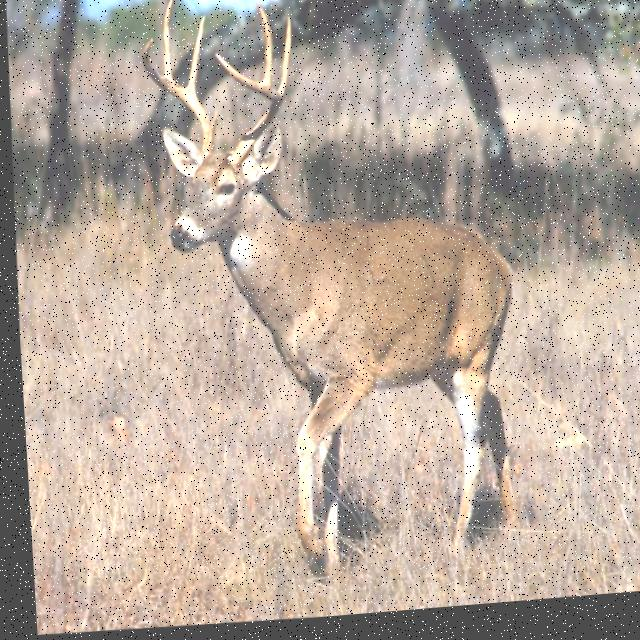L-F: (213, 56, 280, 176)
L-G1: (276, 20, 290, 106)
L-G2: (256, 4, 271, 91)
R-F: (140, 40, 212, 165)
R-G1: (208, 113, 216, 138)
R-G2: (185, 18, 205, 95)
R-G3: (162, 0, 174, 82)
